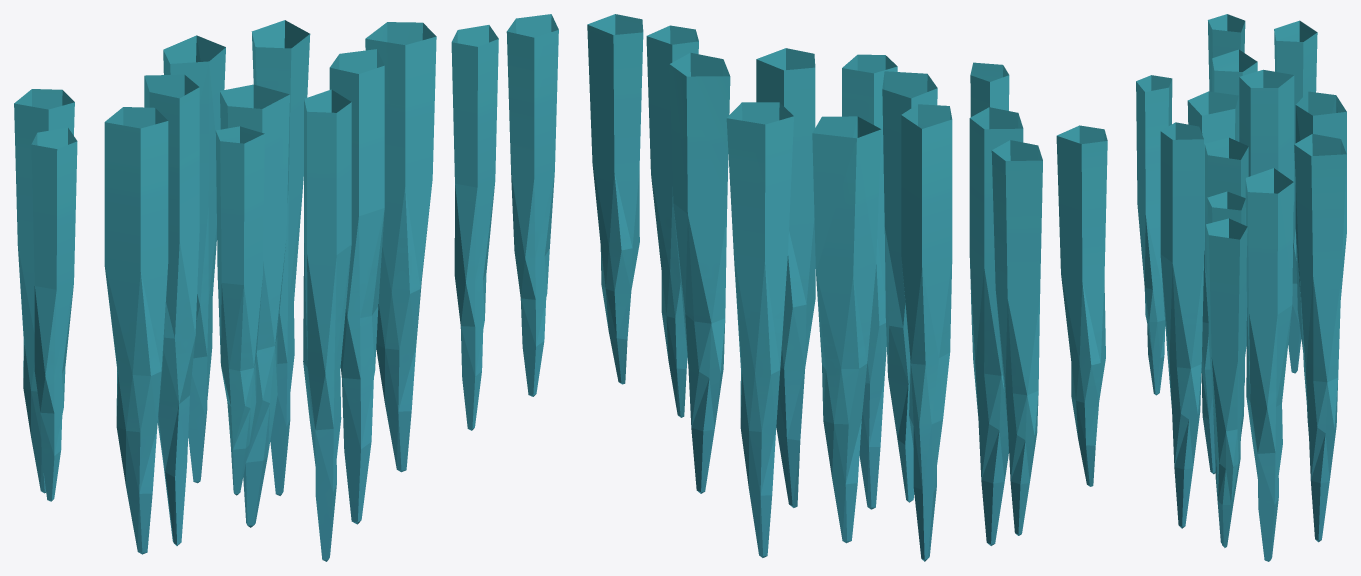
File: iceTrap.fbx
The picture shows the model from 3 angles, left to right: view 1: azimuth 30°, elevation 25°; view 2: azimuth 150°, elevation 25°; view 3: azimuth 270°, elevation 25°; orthographic projection. The views are drawn at different scales.
Parts seen in each view (by area): view 1: iceTrap; view 2: iceTrap; view 3: iceTrap.
Boxes of the visible parts, <box> form: iceTrap: <box>14,14,558,561</box>; iceTrap: <box>587,14,1107,561</box>; iceTrap: <box>1136,14,1346,561</box>.
Bounding box in the file's own units: 7.14 × 6.06 × 2.86.
Materials: 1 (1 with a texture image).
